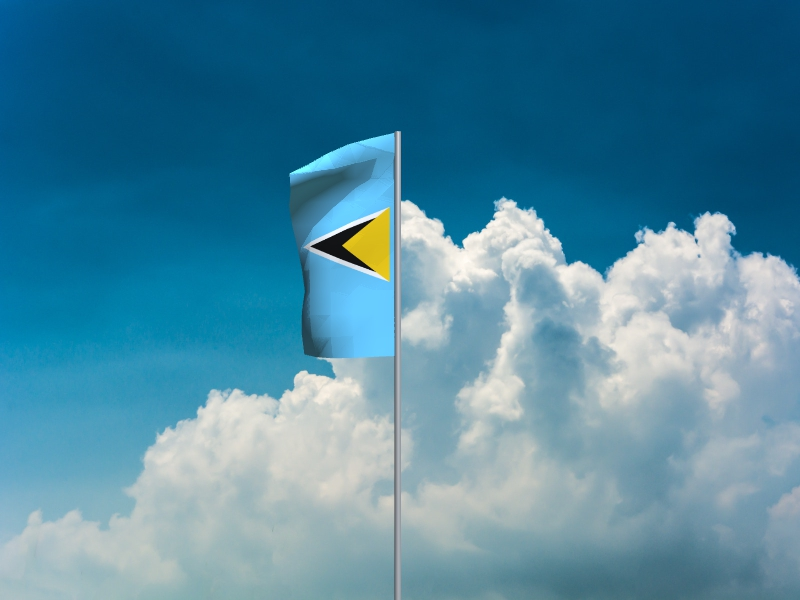lc: (289, 133, 394, 359)
